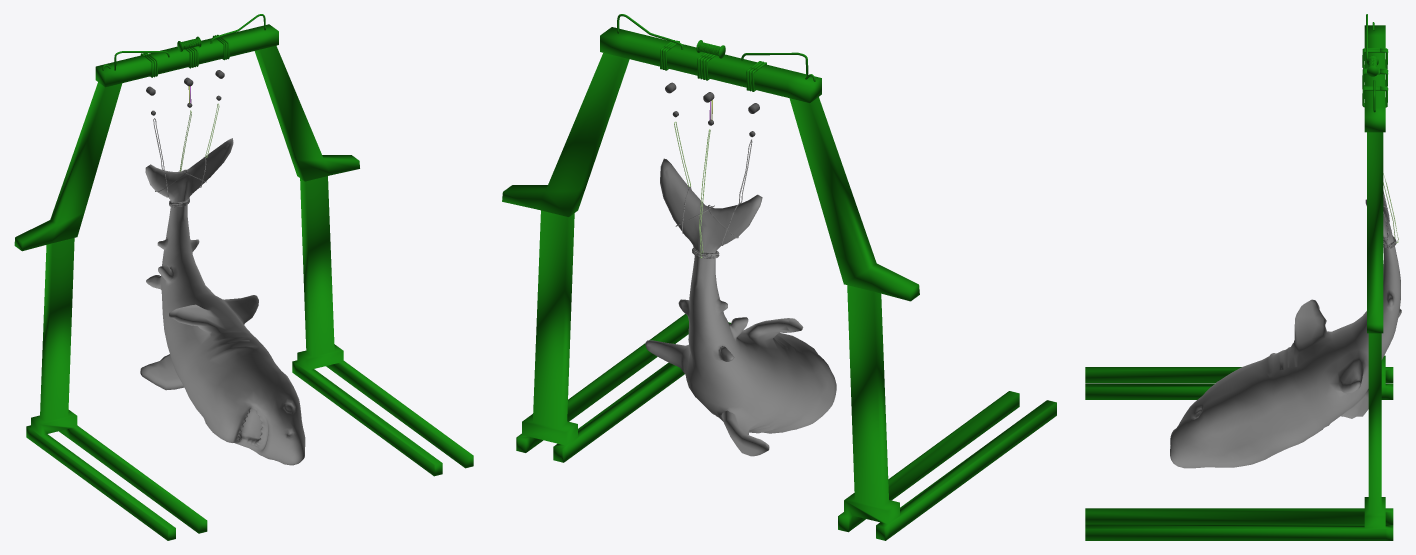
File: Requin.obj
3 views of the same model, side by side, from view 1: azimuth 30°, elevation 25°; view 2: azimuth 150°, elevation 25°; view 3: azimuth 270°, elevation 25° (orthographic). The views are drawn at different scales.
Visible parts, largest first — view 1: Box002, default001; view 2: Box002, default001; view 3: Box002, default001.
Boxes of the visible parts, x1=… form: Box002: x1=14, y1=14, x2=473, y2=540; default001: x1=140, y1=118, x2=305, y2=465; Box002: x1=502, y1=14, x2=1056, y2=540; default001: x1=645, y1=139, x2=836, y2=456; Box002: x1=1085, y1=14, x2=1393, y2=540; default001: x1=1170, y1=191, x2=1401, y2=468.
Size of the model in its own units: 295986 by 313530 by 220757.
